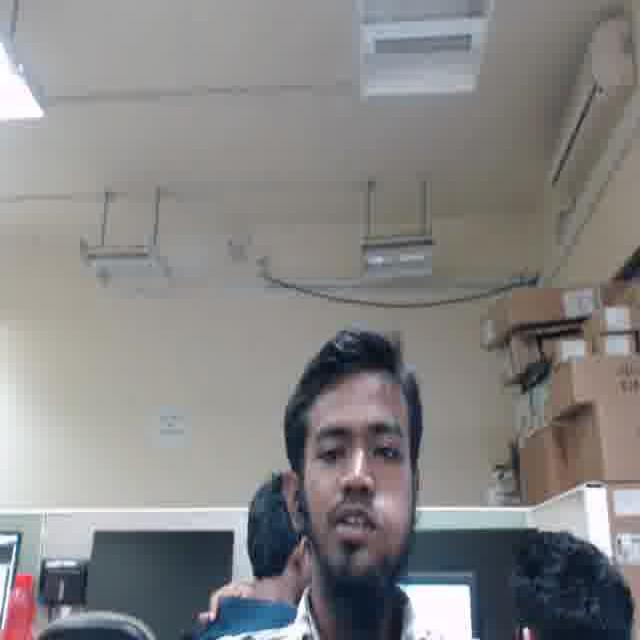Engaged: (302, 385, 413, 576)
